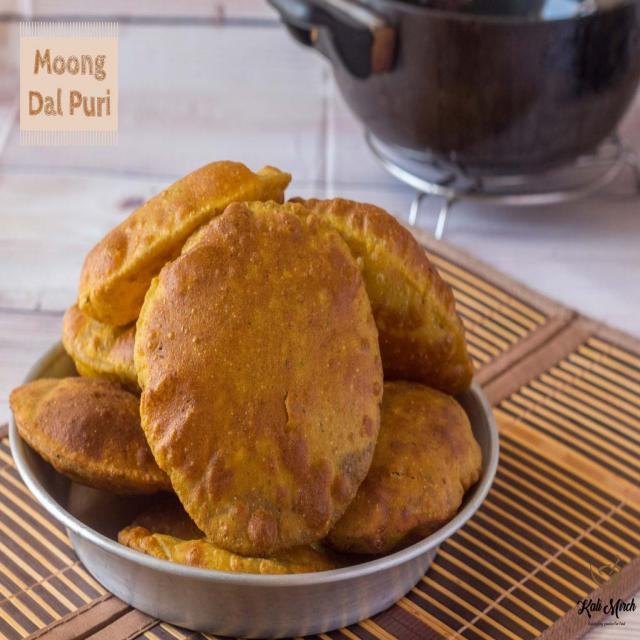POORI: (7, 159, 474, 576)
